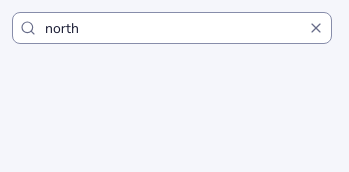
Test: SearchInput › shows the term from the URL and clears it with the clear button
The image size is (349, 172).
Expected: the search field holds "north", 12,12 -> 332,44
Click the button named "Clear search": [316, 28] box 304,16 -> 328,40
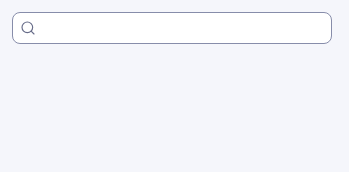
Result: the search field is empty at 12,12 -> 332,44
